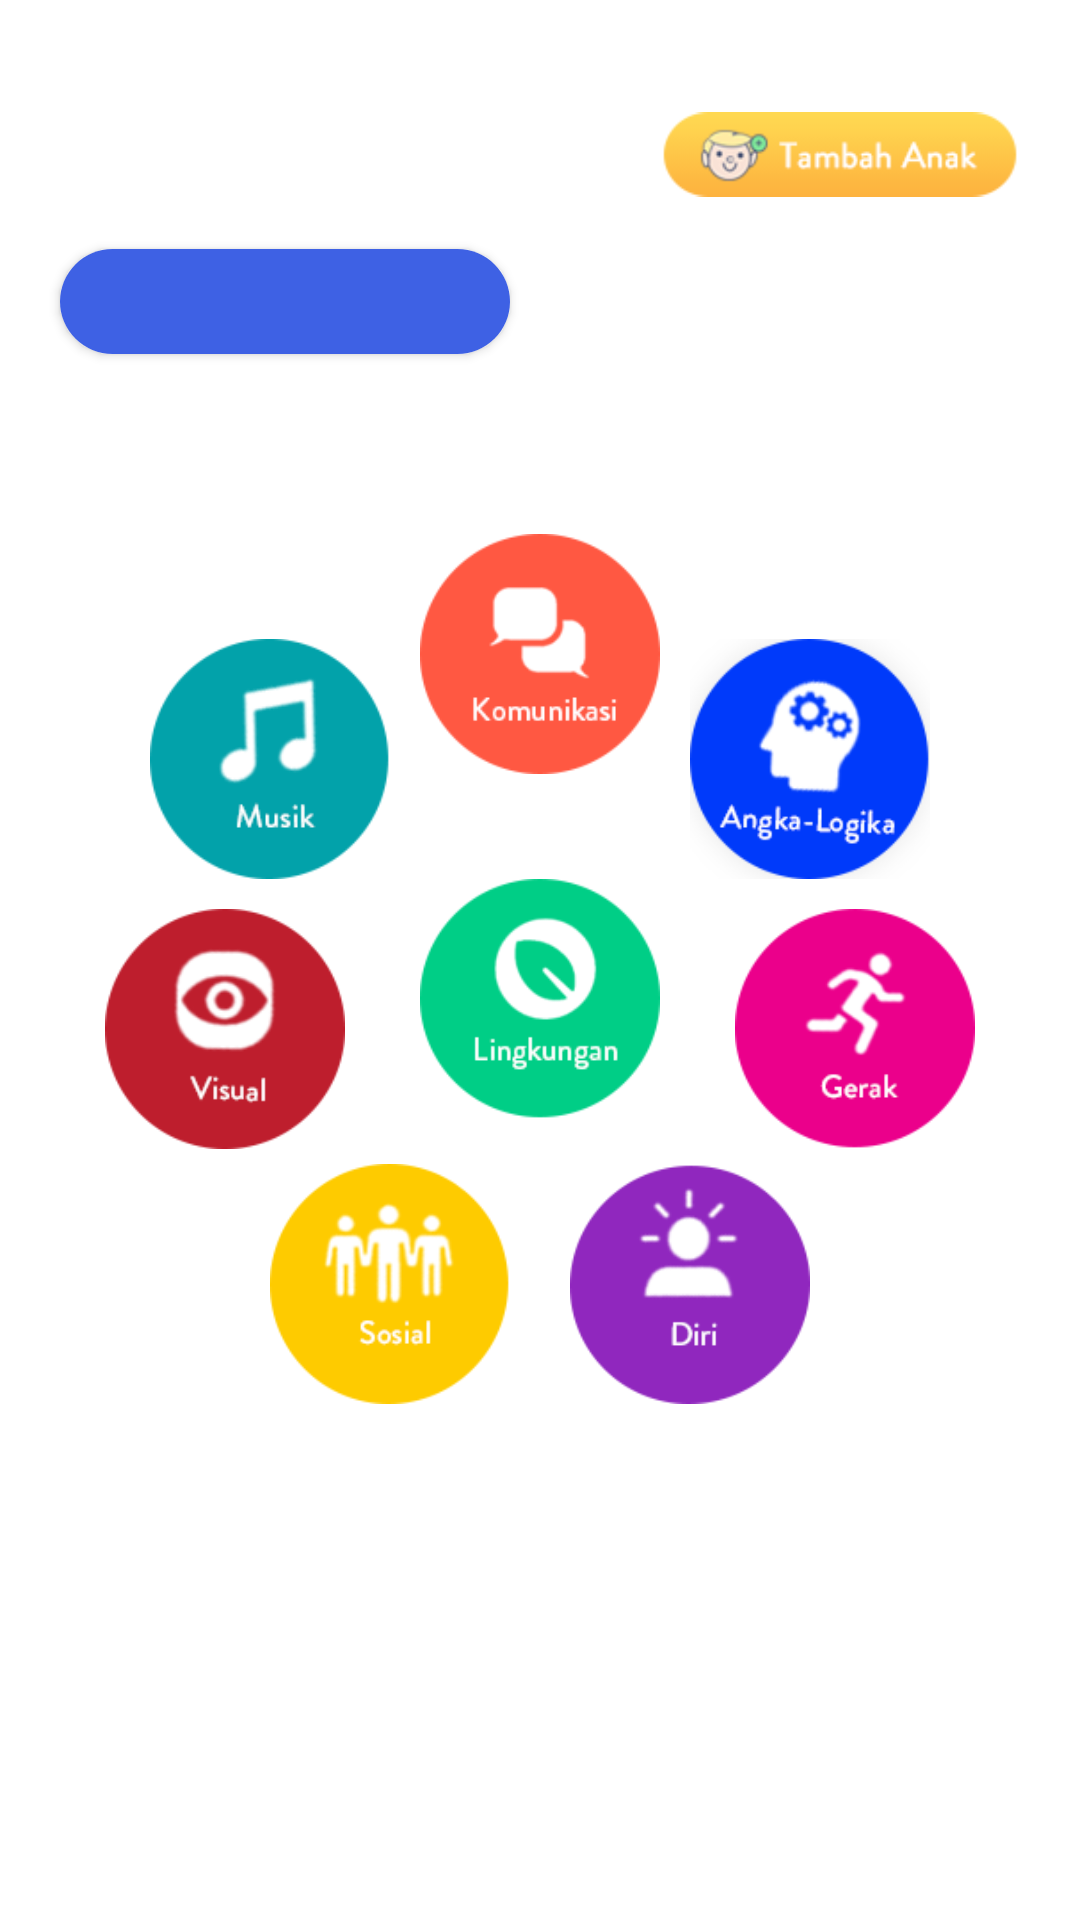

Icon bounding boxes for this 1080px×1920px phone screenshot, format rect(x1, y1, x2, y2):
language: rect(420, 534, 660, 774)
physical: rect(735, 909, 975, 1148)
spatial: rect(105, 909, 345, 1149)
